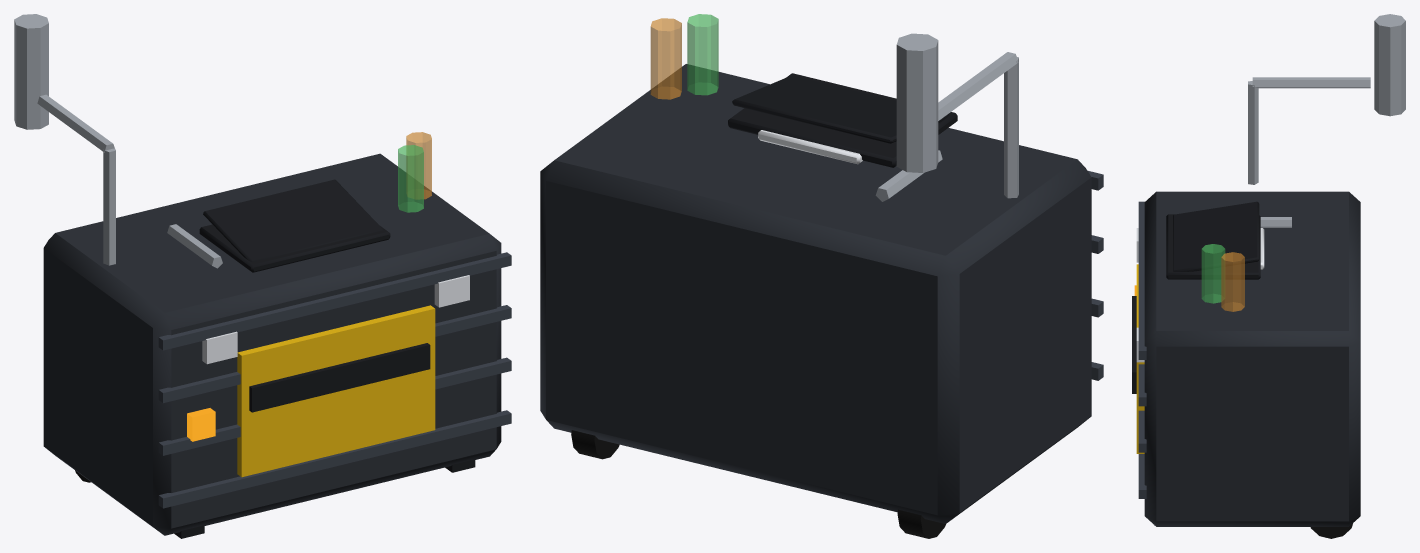
Rendered from sciinstrument_field_lab_trunk.glb.
3 views of the same model, side by side, from view 1: azimuth 30°, elevation 25°; view 2: azimuth 150°, elevation 25°; view 3: azimuth 270°, elevation 25° (orthographic). The views are drawn at different scales.
Visible parts, largest first — view 1: sciinstrument_field_lab_trunk; view 2: sciinstrument_field_lab_trunk; view 3: sciinstrument_field_lab_trunk.
Part boxes in pixels (bbox=[...]): sciinstrument_field_lab_trunk: bbox=[14, 14, 511, 538]; sciinstrument_field_lab_trunk: bbox=[540, 14, 1103, 538]; sciinstrument_field_lab_trunk: bbox=[1132, 14, 1405, 538].
Size of the model in its own units: 0.91 by 1.09 by 0.697.
